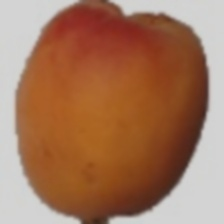apricot: (0, 0, 201, 201)
